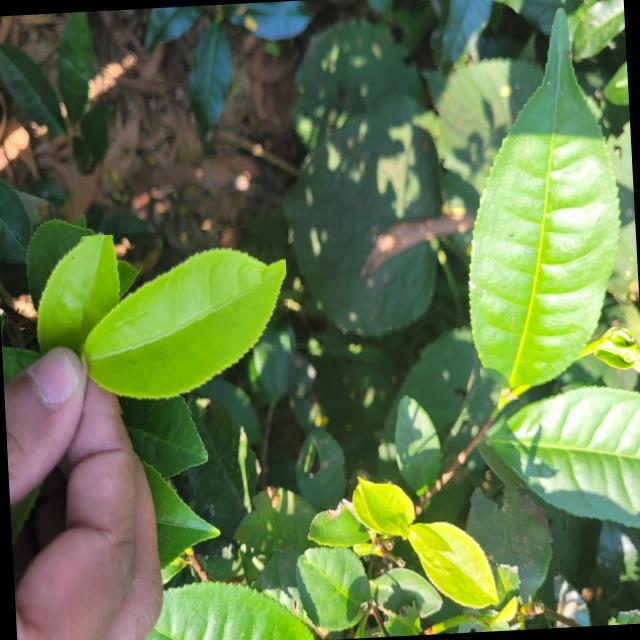Catagory A(1-2 days): (73, 225, 293, 426)
